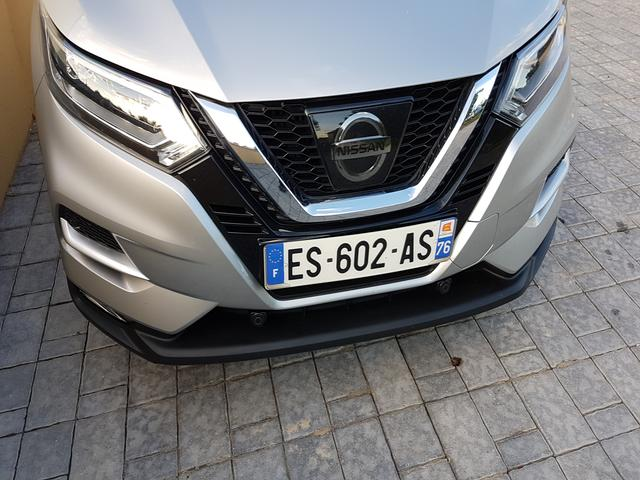Quashquai: (242, 200, 482, 294)
